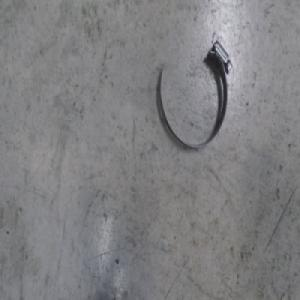AdjustableClamp: (157, 36, 232, 154)
